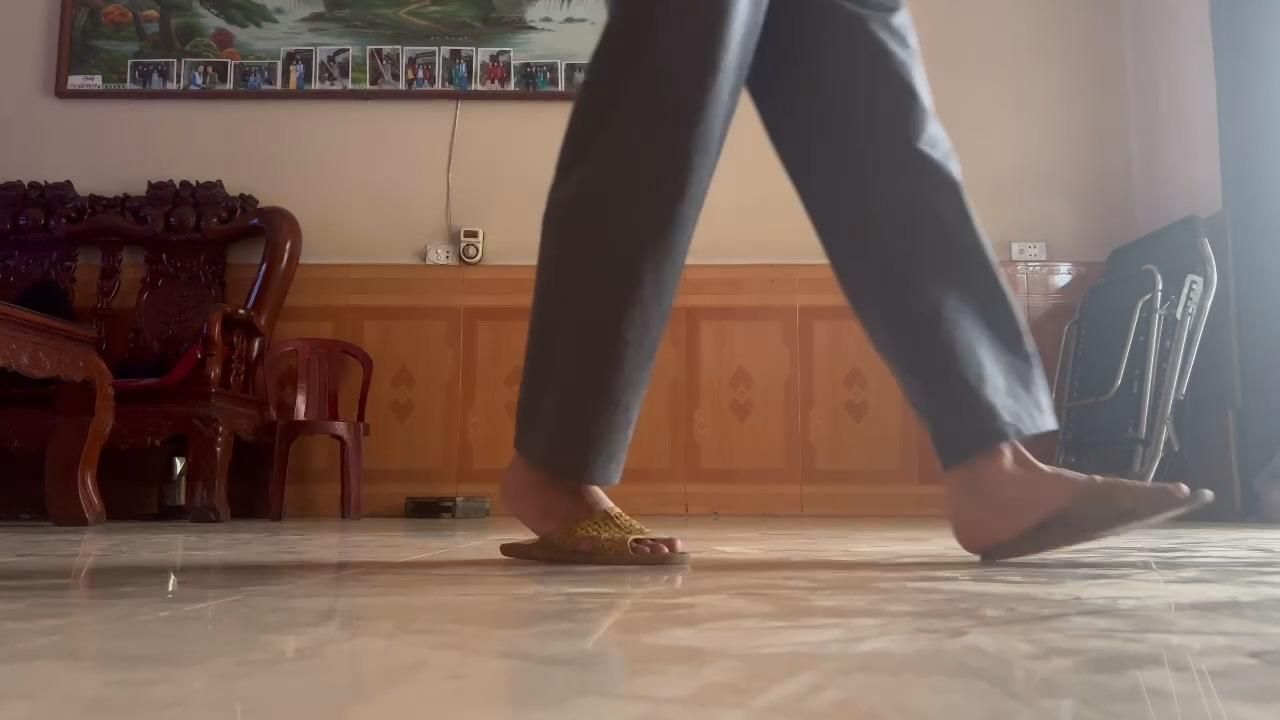no-boot: (940, 466, 1221, 575), (485, 467, 693, 576)
